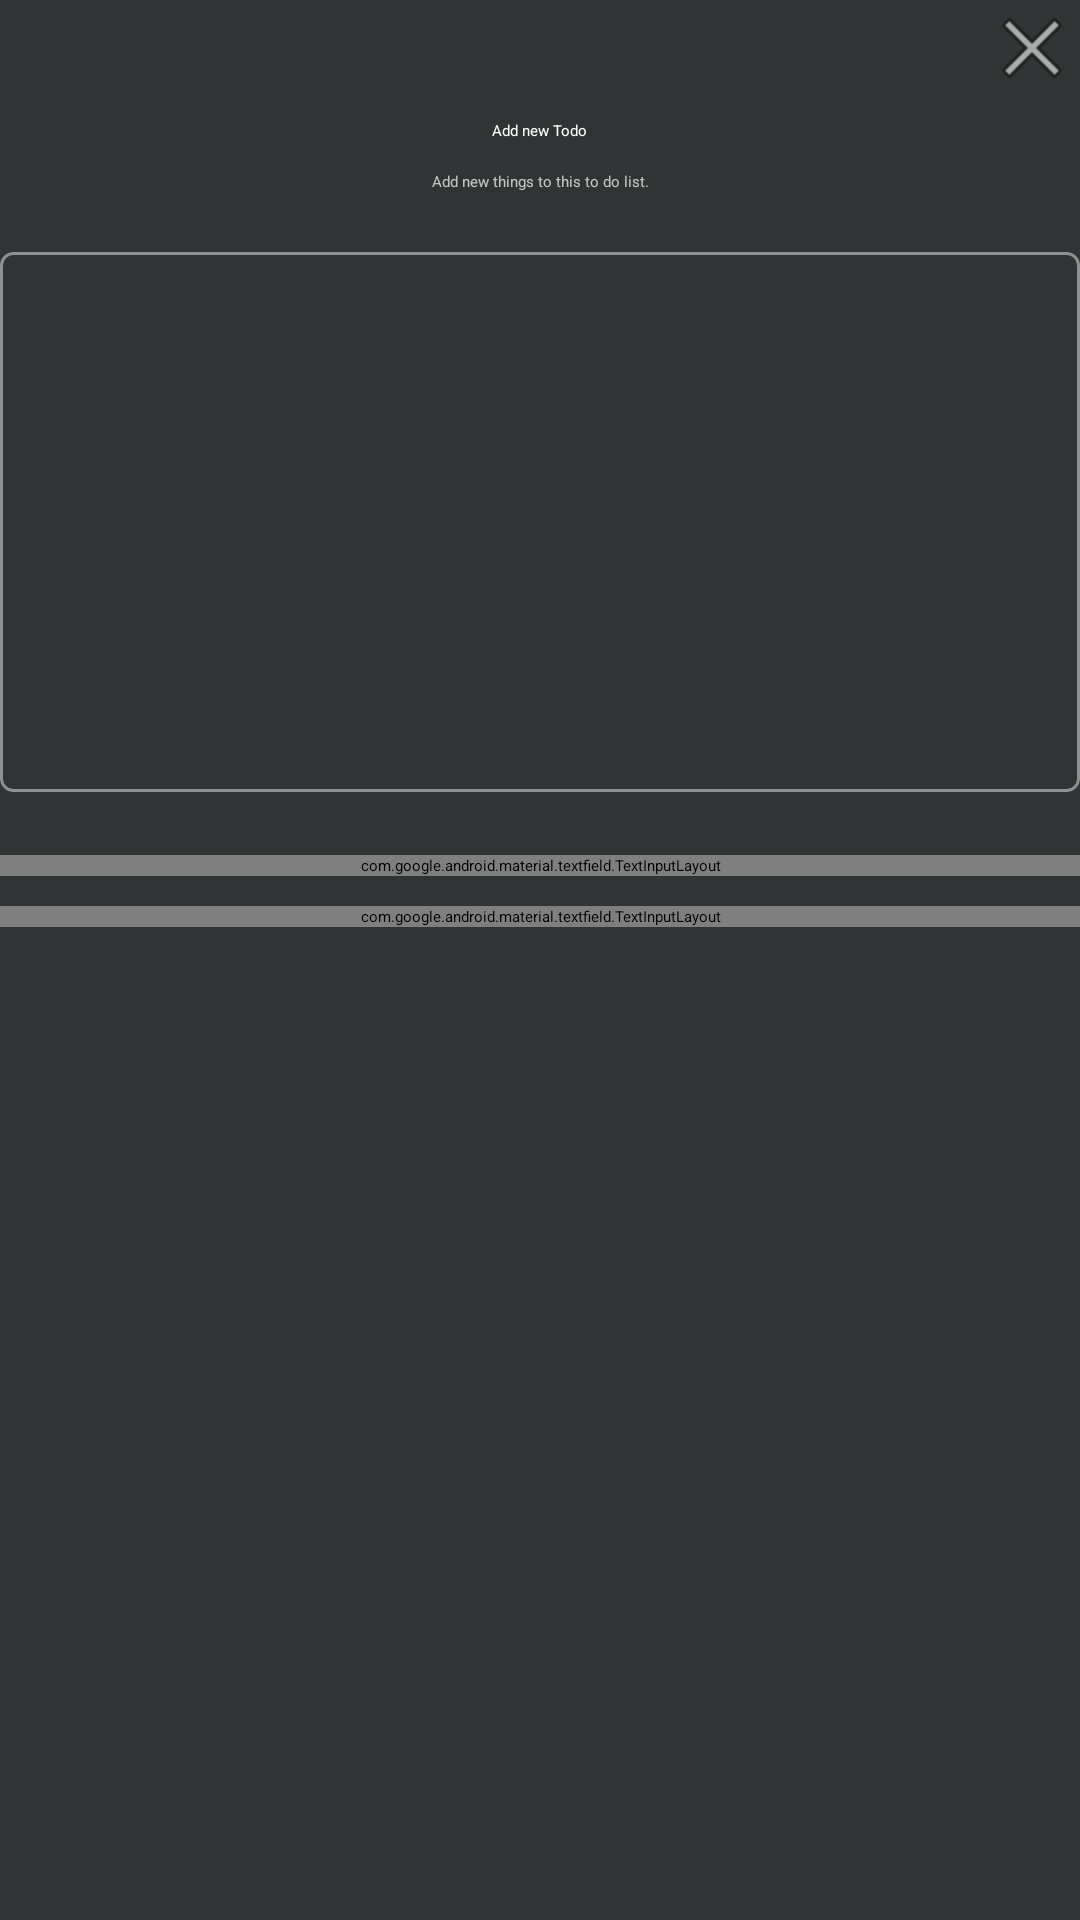

Where icons sit on this 1080×1920 app screen, as {"x1": x1, "y1": y1, "x2": x2, "y2": y2}:
Close: {"x1": 1005, "y1": 21, "x2": 1059, "y2": 75}
